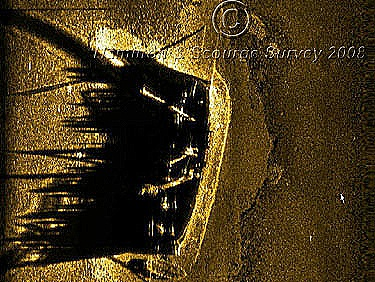ship: (138, 25, 234, 282)
